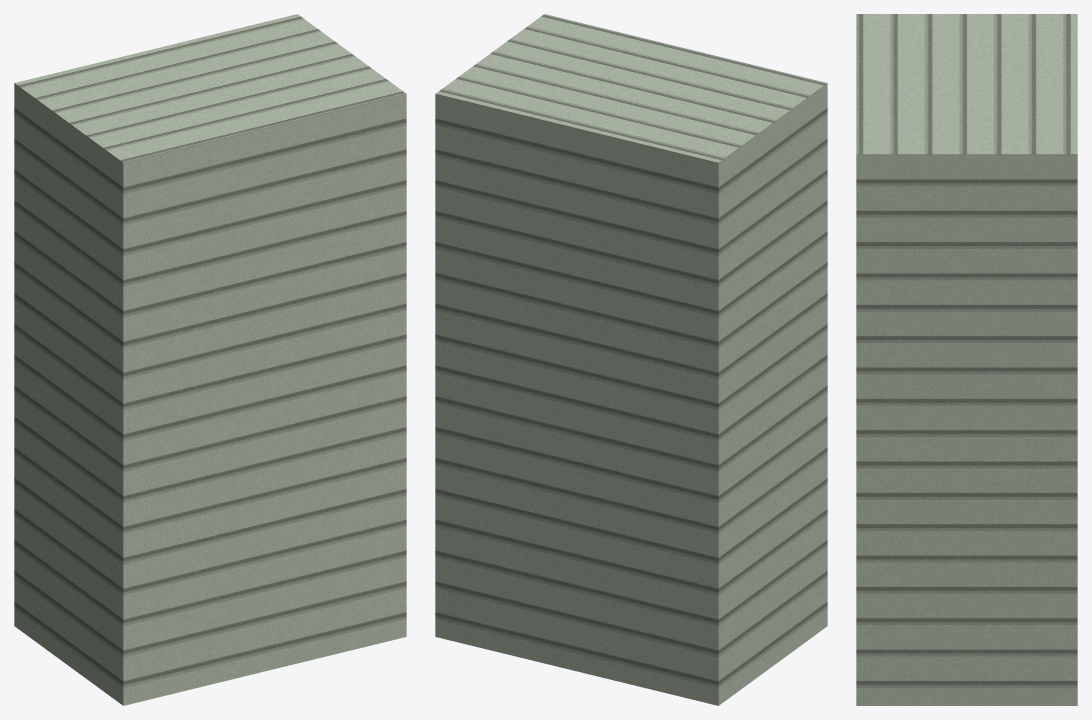
File: war_memorial_monument.glb
3 renders of one model, left to right at view 1: azimuth 30°, elevation 25°; view 2: azimuth 150°, elevation 25°; view 3: azimuth 270°, elevation 25°, orthographic.
Visible parts, largest first — view 1: war_memorial_monument-col; view 2: war_memorial_monument-col; view 3: war_memorial_monument-col.
Part boxes in pixels (bbox=[...]): war_memorial_monument-col: bbox=[14, 14, 406, 705]; war_memorial_monument-col: bbox=[435, 14, 827, 705]; war_memorial_monument-col: bbox=[856, 14, 1077, 705].
Size of the model in its own units: 1.2 by 2.2 by 0.8.
1 material, 1 textured.
